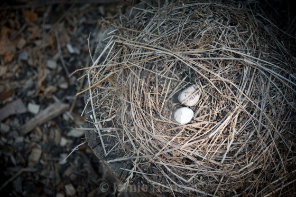egg: (171, 105, 199, 127)
stone: (173, 79, 208, 109)
